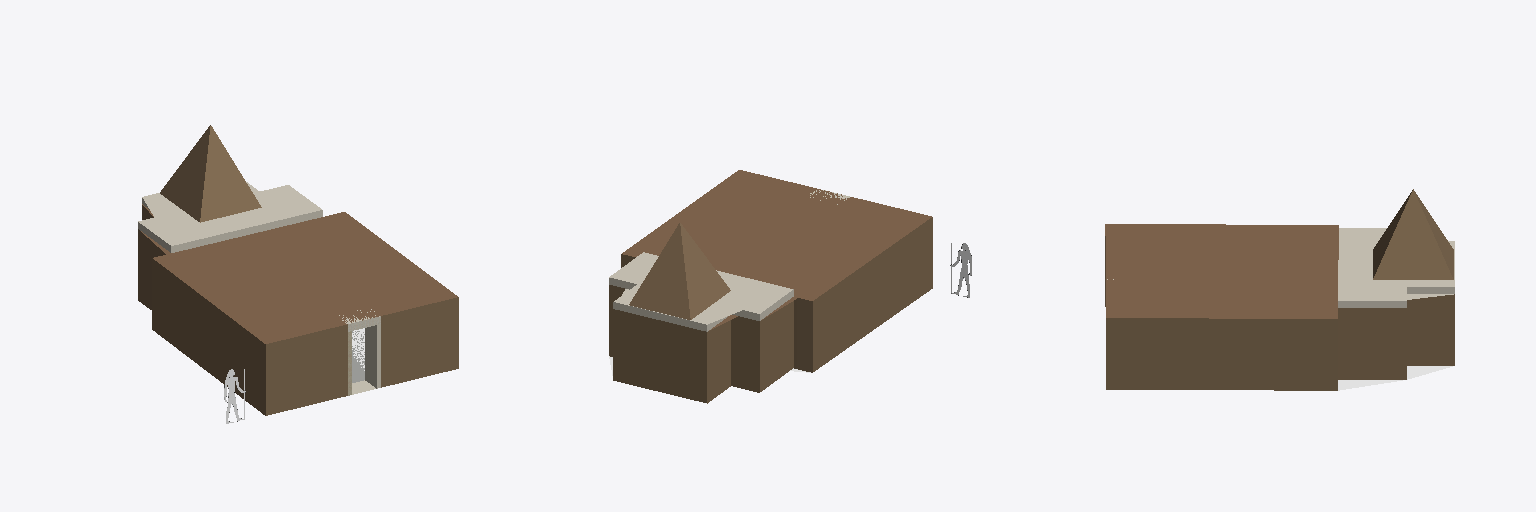
The picture shows the model from 3 angles: view 1: azimuth 30°, elevation 25°; view 2: azimuth 150°, elevation 25°; view 3: azimuth 270°, elevation 25°; orthographic projection.
Parts seen in each view (by area): view 1: Mesh7 Model, Mesh6 Component_8_1 Model, Mesh8 Model, Mesh9 Model; view 2: Mesh7 Model, Mesh8 Model, Mesh6 Component_8_1 Model, Mesh9 Model; view 3: Mesh7 Model, Mesh8 Model, Mesh6 Component_8_1 Model.
Part boxes in pixels (x1,y1,x2,y2): Mesh7 Model: (138,204,458,415); Mesh6 Component_8_1 Model: (138,182,322,252); Mesh8 Model: (160,125,261,222); Mesh9 Model: (224,369,245,423); Mesh7 Model: (609,170,932,403); Mesh8 Model: (629,223,730,319); Mesh6 Component_8_1 Model: (609,252,793,331); Mesh9 Model: (950,243,971,297); Mesh7 Model: (1105,224,1454,390); Mesh8 Model: (1373,189,1453,279); Mesh6 Component_8_1 Model: (1338,228,1454,307).
Bounding box in the file's own units: 7.3 × 4.59 × 9.36.
Materials: 10 (4 with a texture image).